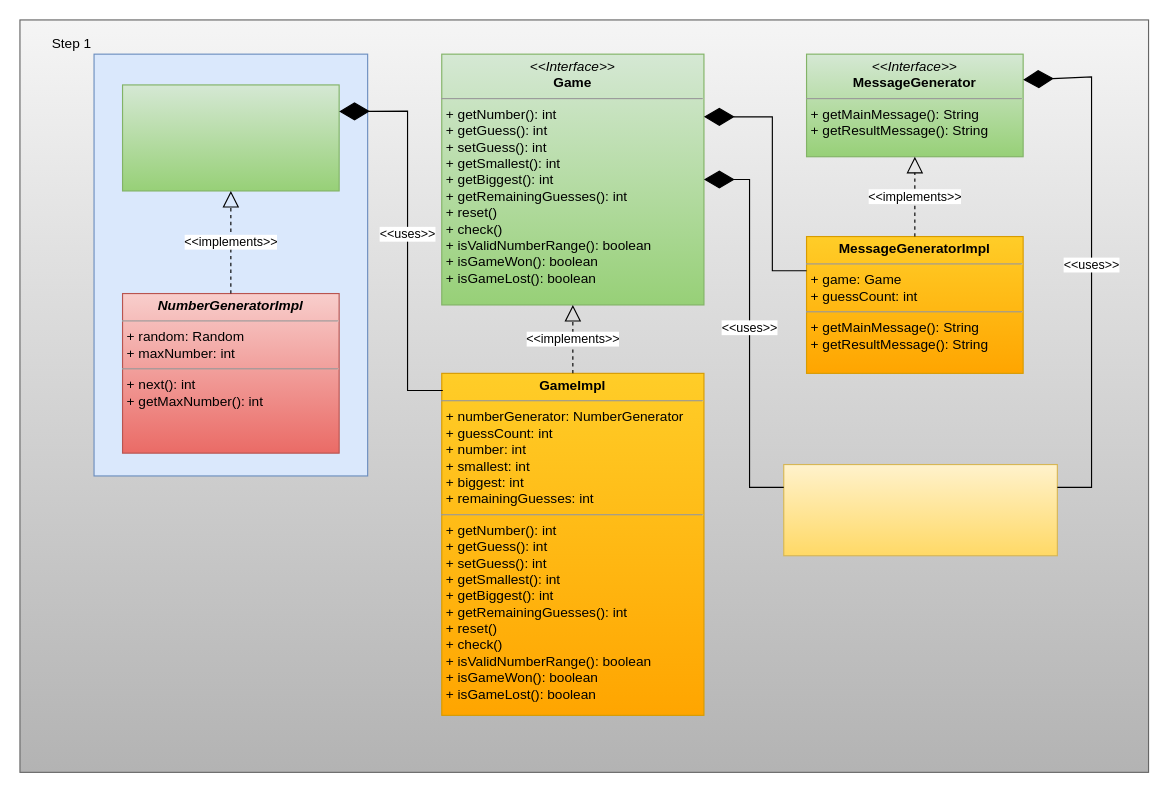
Image size: 1169x792. Some labels were removed from this diagram. Each missing label, with the centre of its shape:
"<<Interface>> NumberGenerator + next(): int + getMaxNumber(): int" belongs at point 230,137.
"ConsoleNumberGuess + game: Game + messageGenerator: MessageGenerator" belongs at point 920,509.
